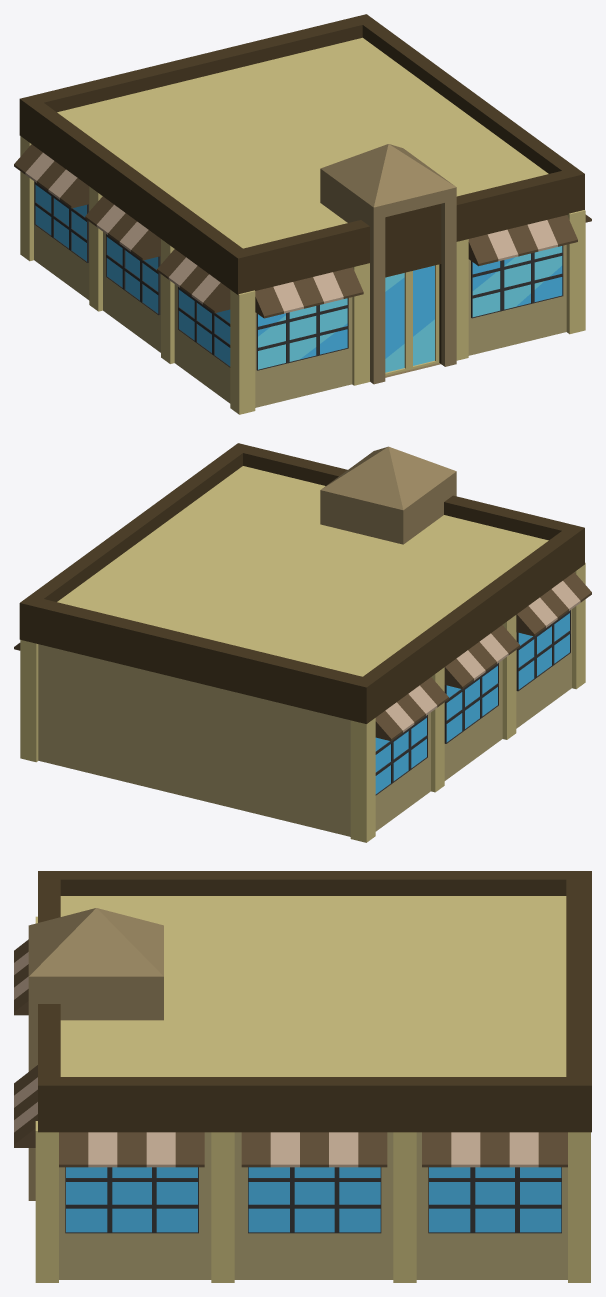
The model's file is Env_CommercialBuilding_02.fbx.
3 views of the same model, one above another, from view 1: azimuth 30°, elevation 25°; view 2: azimuth 150°, elevation 25°; view 3: azimuth 270°, elevation 25° (orthographic). The views are drawn at different scales.
Visible parts, largest first — view 1: Env_CommercialBuilding_02; view 2: Env_CommercialBuilding_02; view 3: Env_CommercialBuilding_02.
Part boxes in pixels (box(x1,y1,x2,y2)): Env_CommercialBuilding_02: box(14, 14, 591, 414); Env_CommercialBuilding_02: box(14, 443, 591, 842); Env_CommercialBuilding_02: box(14, 871, 591, 1282).
Size of the model in its own units: 1278 by 684 by 1337.
